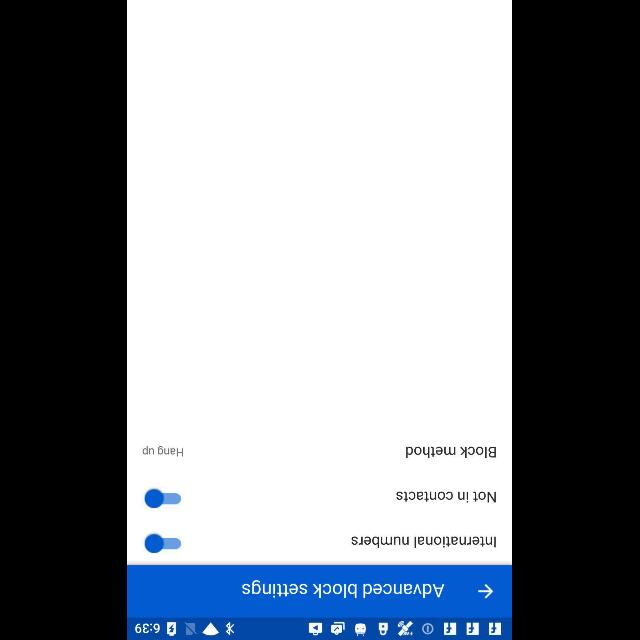icon: (479, 584, 495, 598)
switch: (146, 488, 182, 508), (144, 534, 182, 552)
text: (242, 580, 446, 598), (352, 536, 496, 548), (407, 446, 497, 458), (397, 492, 497, 502), (142, 446, 184, 456)
toolbar: (128, 565, 512, 617)
uppertaskbar: (128, 617, 512, 639)
